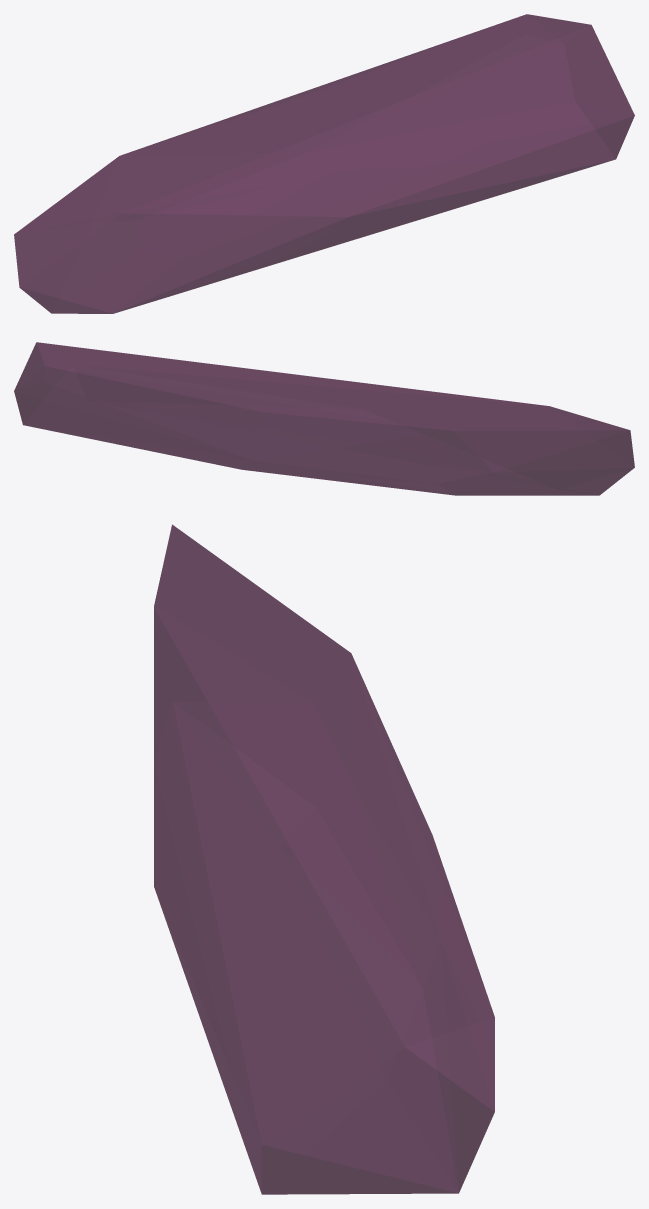
3 views of the same model, one above another, from view 1: azimuth 30°, elevation 25°; view 2: azimuth 150°, elevation 25°; view 3: azimuth 270°, elevation 25° (orthographic). The views are drawn at different scales.
Parts seen in each view (by area): view 1: Shape_IndexedFaceSet.009_Shape_IndexedFaceSet.2970; view 2: Shape_IndexedFaceSet.009_Shape_IndexedFaceSet.2970; view 3: Shape_IndexedFaceSet.009_Shape_IndexedFaceSet.2970.
Part boxes in pixels (left/top/right/bottom): Shape_IndexedFaceSet.009_Shape_IndexedFaceSet.2970: left=14, top=14, right=634, bottom=313; Shape_IndexedFaceSet.009_Shape_IndexedFaceSet.2970: left=14, top=342, right=634, bottom=495; Shape_IndexedFaceSet.009_Shape_IndexedFaceSet.2970: left=154, top=524, right=494, bottom=1194.
Size of the model in its own units: 0.1613 by 0.0234 by 0.0444.
